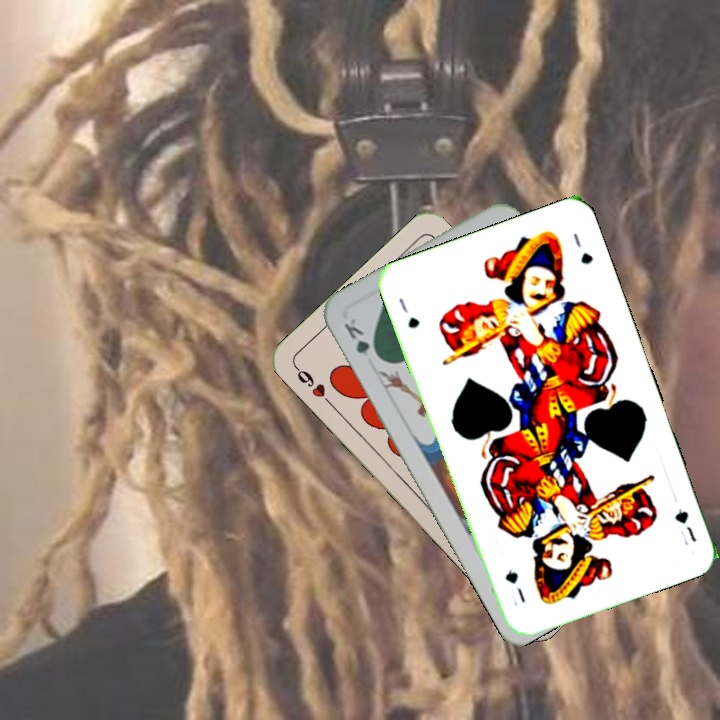GK: (339, 314, 383, 363)
GU: (670, 505, 699, 545), (394, 293, 423, 331)
H9: (291, 362, 336, 409)
